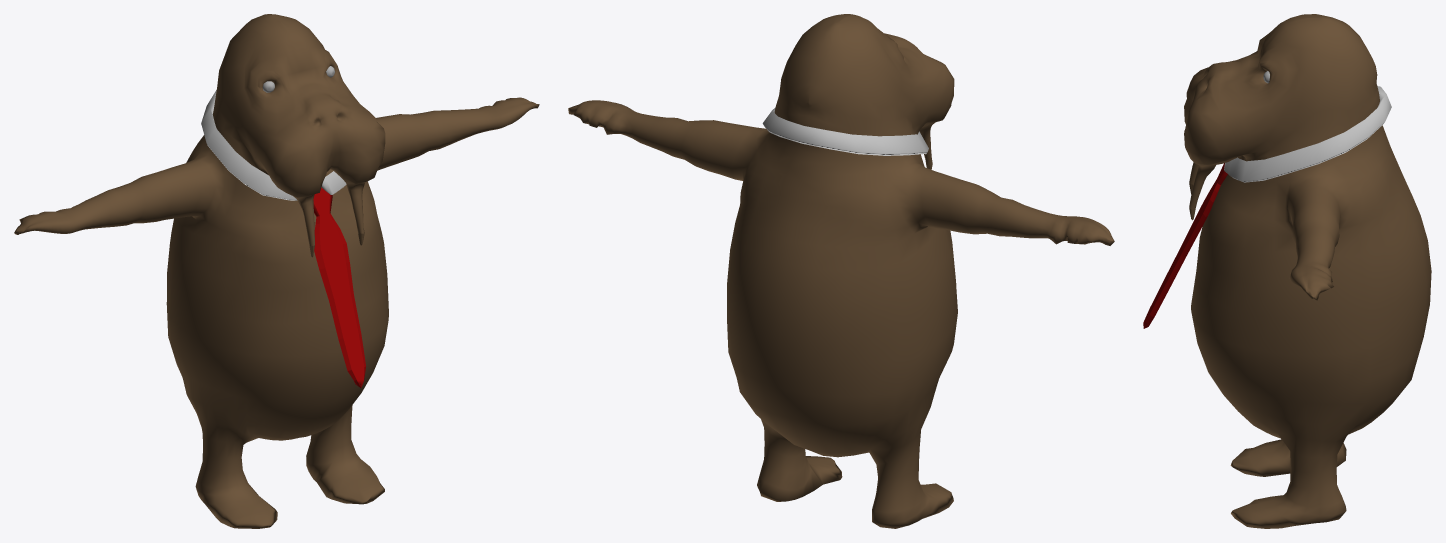
The model's file is Walrus WIP.fbx.
3 renders of one model, left to right at view 1: azimuth 30°, elevation 25°; view 2: azimuth 150°, elevation 25°; view 3: azimuth 270°, elevation 25°, orthographic. The views are drawn at different scales.
Parts seen in each view (by area): view 1: Walrus, Tie, Collar; view 2: Walrus, Collar; view 3: Walrus, Collar, Tie.
Boxes of the visible parts, x1,y1,x2,y2 form: Walrus: [14, 14, 539, 528]; Tie: [313, 187, 366, 387]; Collar: [201, 90, 346, 200]; Walrus: [568, 14, 1114, 528]; Collar: [762, 107, 928, 155]; Walrus: [1184, 14, 1431, 528]; Collar: [1224, 86, 1391, 182]; Tie: [1143, 163, 1227, 328].
Bounding box in the file's own units: 19.53 × 16.63 × 9.17.
